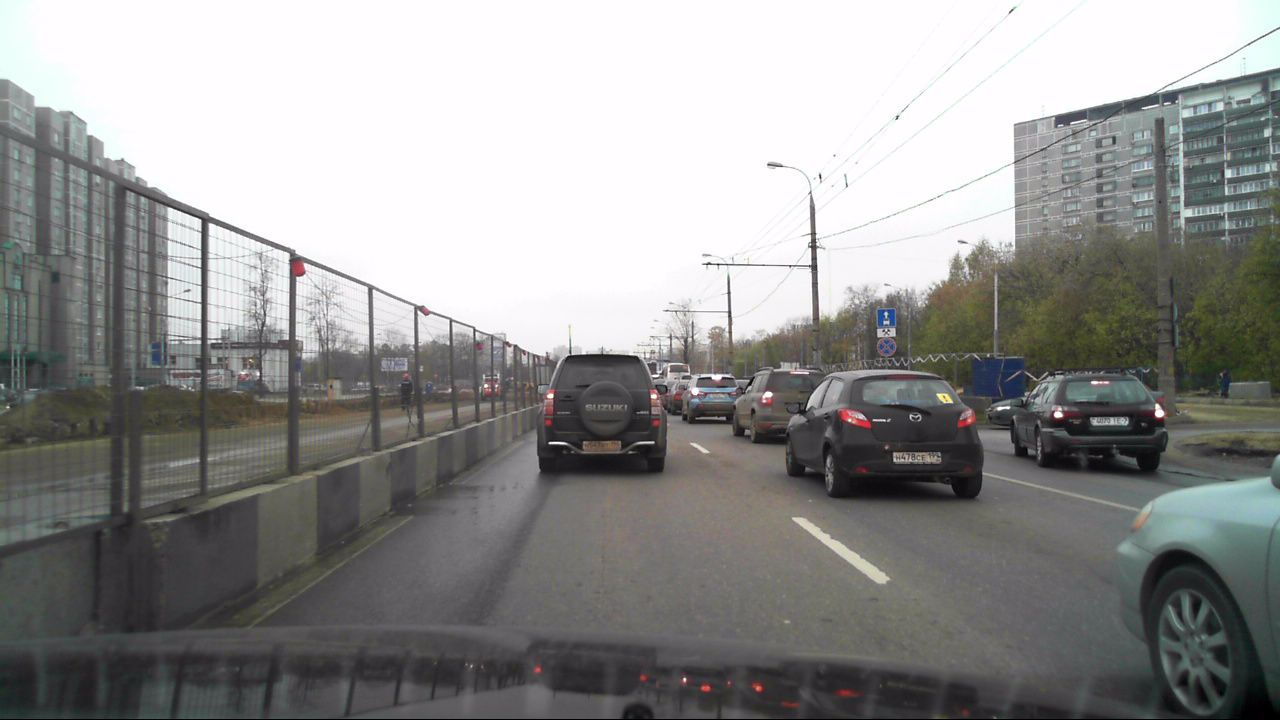No Parking: (875, 338, 896, 357)
